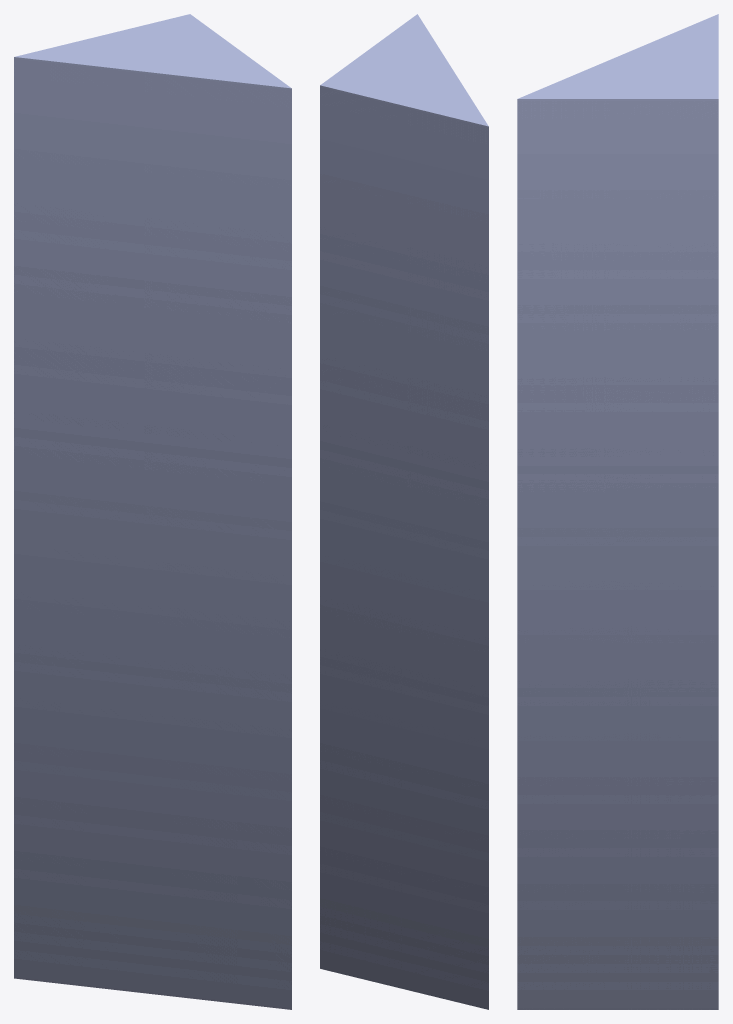
The model's file is prototype-kit--column-triangle.glb.
3 renders of one model, left to right at view 1: azimuth 30°, elevation 25°; view 2: azimuth 150°, elevation 25°; view 3: azimuth 270°, elevation 25°, orthographic. The views are drawn at different scales.
Visible parts, largest first — view 1: column-triangle; view 2: column-triangle; view 3: column-triangle.
Part boxes in pixels (x1,y1,x2,y2): column-triangle: (14,14,291,1009); column-triangle: (320,14,488,1009); column-triangle: (517,14,718,1009).
Bounding box in the file's own units: 0.2 × 1 × 0.2.
1 material, 1 textured.
